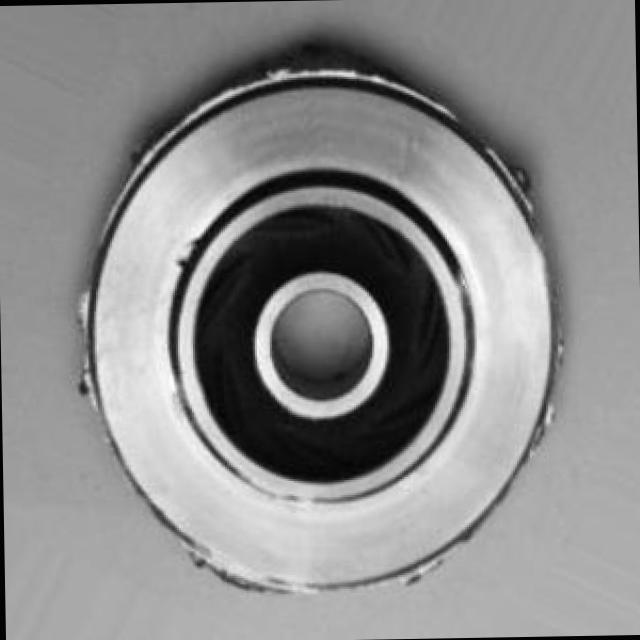Defect: (496, 144, 541, 208)
